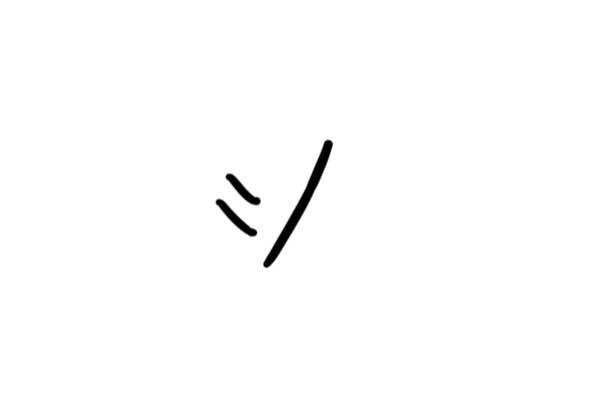shi: (201, 133, 339, 278)
